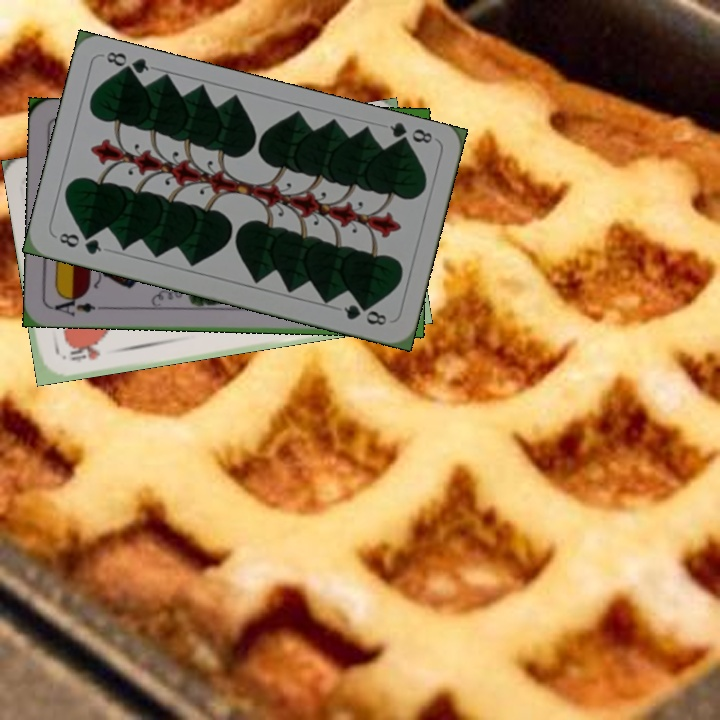EA: (48, 292, 108, 319)
G8: (385, 119, 435, 151), (54, 228, 105, 257)
HO: (66, 340, 103, 365)
